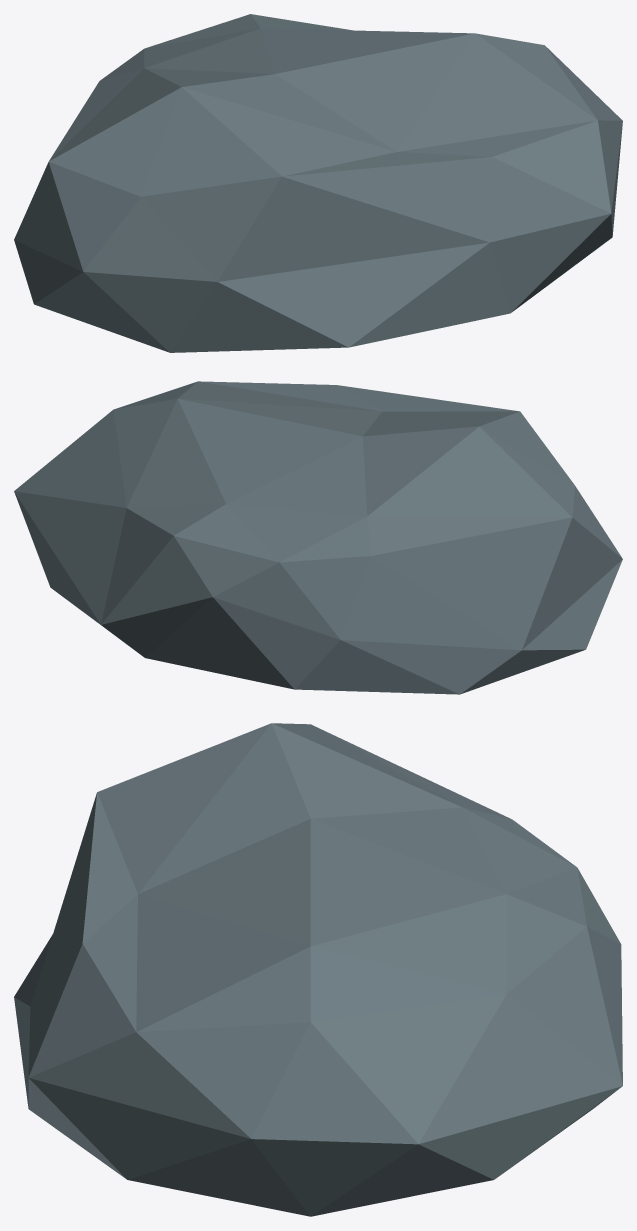
File: Steen laag2.fbx
3 views of the same model, one above another, from view 1: azimuth 30°, elevation 25°; view 2: azimuth 150°, elevation 25°; view 3: azimuth 270°, elevation 25° (orthographic). The views are drawn at different scales.
Parts seen in each view (by area): view 1: Icosphere.004; view 2: Icosphere.004; view 3: Icosphere.004.
Part boxes in pixels (x1,y1,x2,y2): Icosphere.004: (14, 14, 622, 352); Icosphere.004: (14, 381, 622, 694); Icosphere.004: (14, 723, 622, 1216).
Size of the model in its own units: 145 by 50.21 by 110.
